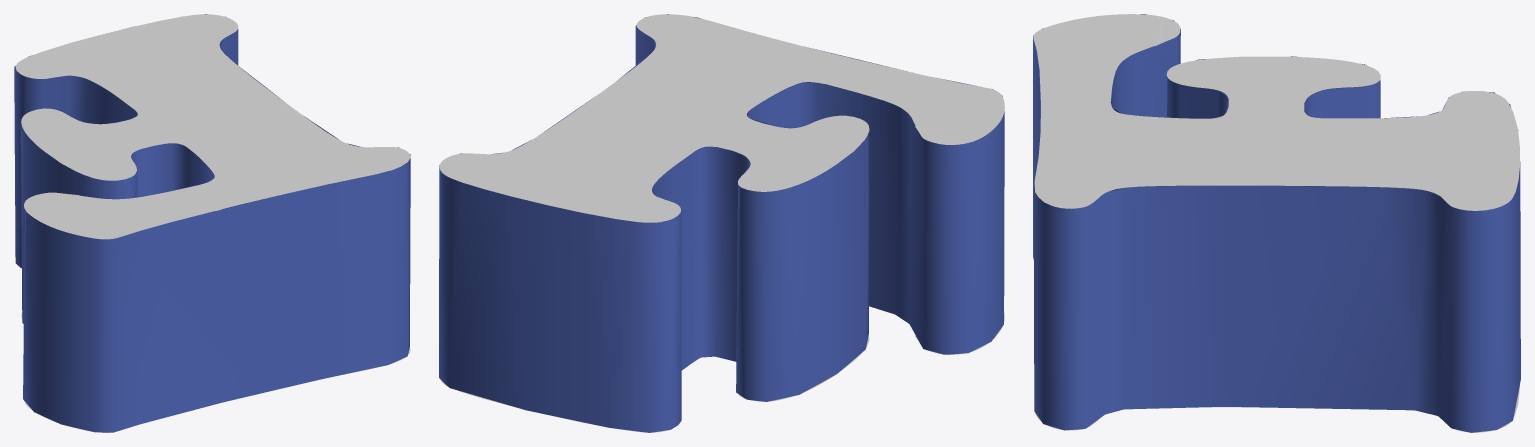
3 views of the same model, side by side, from view 1: azimuth 30°, elevation 25°; view 2: azimuth 150°, elevation 25°; view 3: azimuth 270°, elevation 25° (orthographic). The views are drawn at different scales.
Visible parts, largest first — view 1: F; view 2: F; view 3: F.
Boxes of the visible parts, x1=… form: F: x1=14, y1=14, x2=410, y2=432; F: x1=439, y1=14, x2=1004, y2=432; F: x1=1033, y1=14, x2=1520, y2=432.
Size of the model in its own units: 1.4 by 0.7366 by 1.47.
